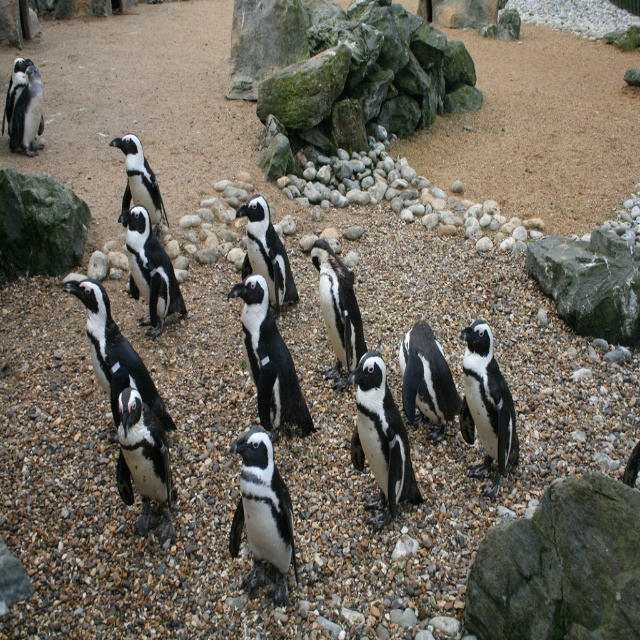Penguin: (60, 280, 177, 441), (226, 272, 320, 435), (222, 419, 301, 591), (350, 348, 422, 525), (458, 325, 525, 477), (307, 234, 371, 389), (113, 389, 182, 521), (122, 202, 190, 333), (235, 192, 300, 315), (399, 324, 464, 428), (108, 138, 170, 235), (6, 63, 43, 160), (3, 58, 30, 134)
